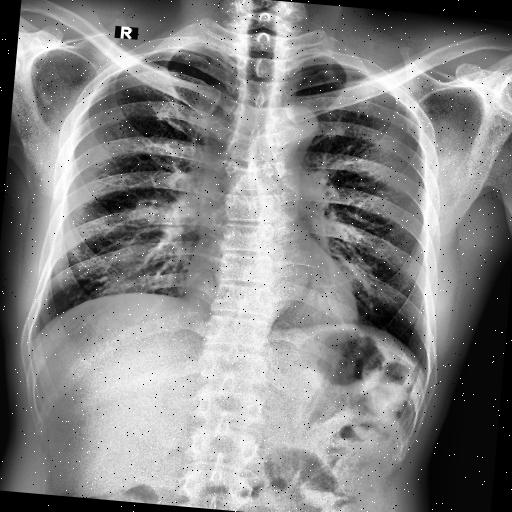0- Aortic enlargement: (259, 104, 321, 164), (259, 100, 320, 156), (268, 102, 320, 153)
11- Pleural thickening: (153, 46, 214, 64)
